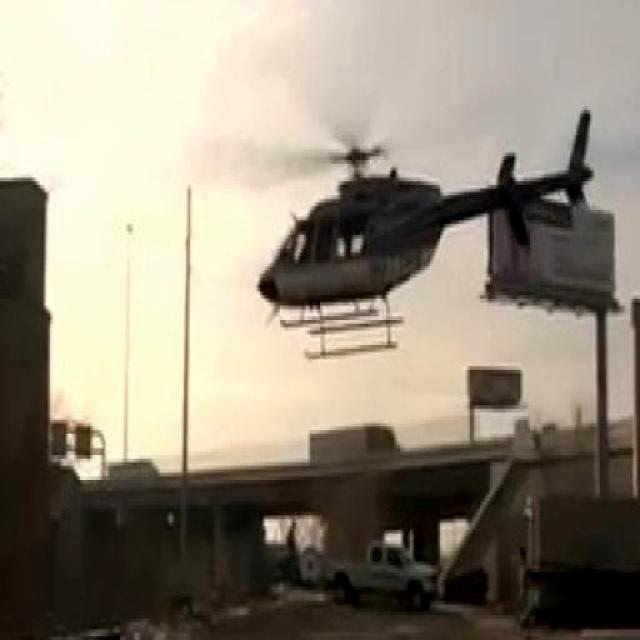drone: (240, 95, 604, 360)
